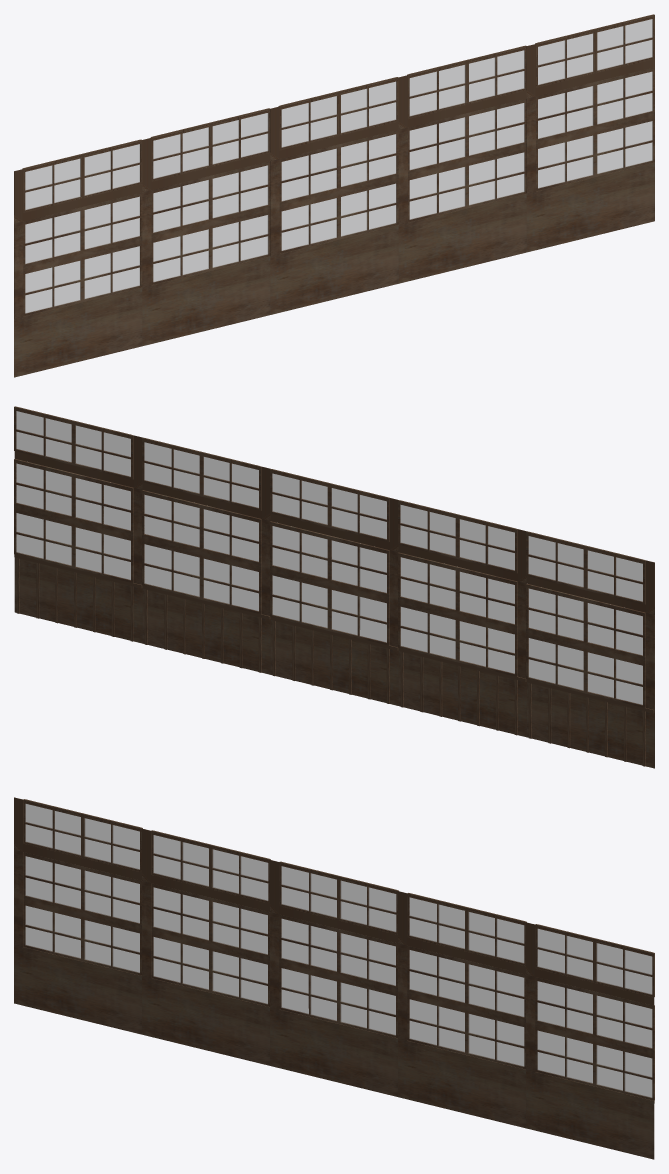
Rendered from wall_module.fbx.
3 views of the same model, one above another, from view 1: azimuth 30°, elevation 25°; view 2: azimuth 150°, elevation 25°; view 3: azimuth 330°, elevation 25° (orthographic).
Visible parts, largest first — view 1: Plane.020; view 2: Plane.020; view 3: Plane.020.
Boxes of the visible parts, x1=… form: Plane.020: x1=14, y1=14, x2=654, y2=377; Plane.020: x1=14, y1=406, x2=654, y2=768; Plane.020: x1=14, y1=797, x2=654, y2=1159.
Size of the model in its own units: 1825 by 561 by 4.52.
